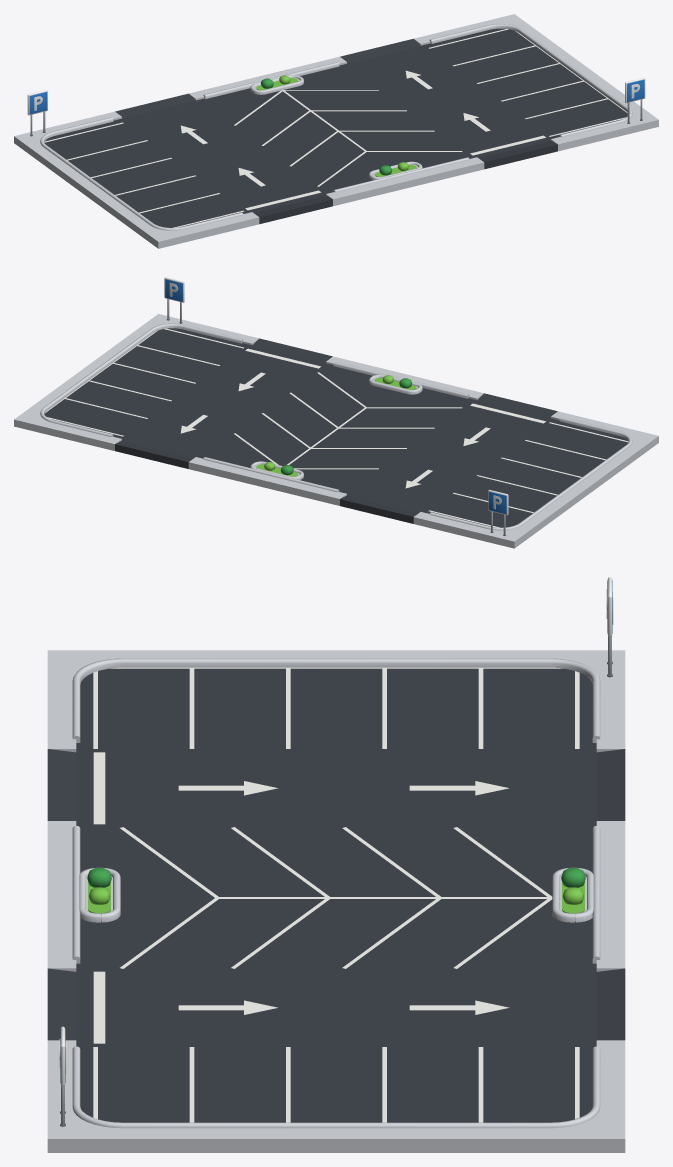
The model's file is estacionamento_grande.glb.
3 renders of one model, top to bottom at view 1: azimuth 30°, elevation 25°; view 2: azimuth 150°, elevation 25°; view 3: azimuth 270°, elevation 25°, orthographic. The views are drawn at different scales.
Visible parts, largest first — view 1: estacionamento_grande; view 2: estacionamento_grande; view 3: estacionamento_grande.
Part boxes in pixels (x1,y1,x2,y2): estacionamento_grande: [14, 14, 658, 248]; estacionamento_grande: [14, 277, 658, 548]; estacionamento_grande: [47, 577, 625, 1152].
Bounding box in the file's own units: 30 × 2.8 × 15.
1 material, 1 textured.
